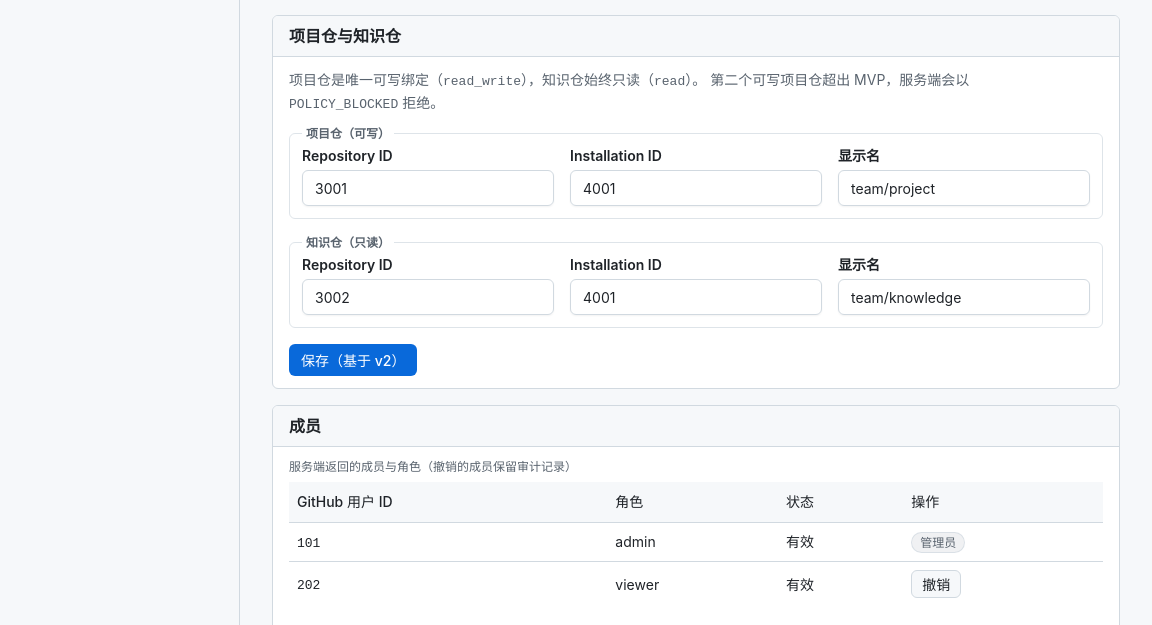
Scenario: workspace settings page › presents RESOURCE_UNAVAILABLE as an external fact, not as a missing object
(page scrolled)
Click the button "保存（基于 v2）".
click(353, 360)  # box [289, 344, 417, 376]
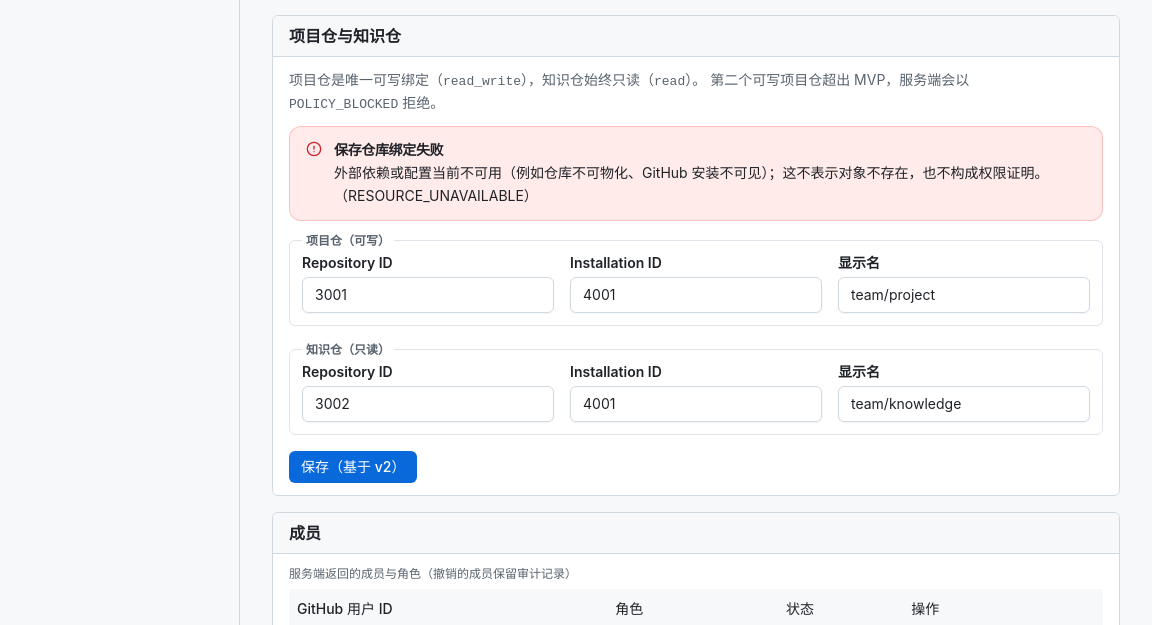
Expected: the message shows "RESOURCE_UNAVAILABLE", [334, 164, 1049, 204]
Expected: the message shows "这不表示对象不存在", [334, 164, 1049, 204]
